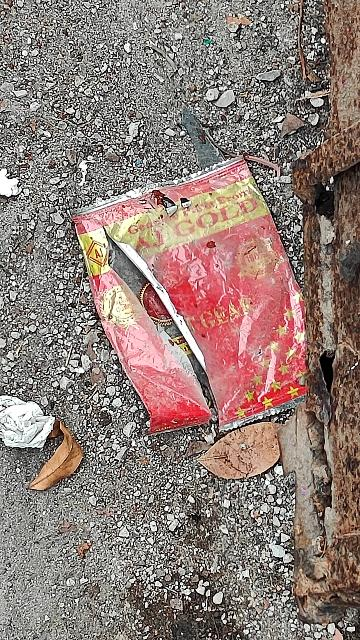packet: (45, 145, 331, 424)
